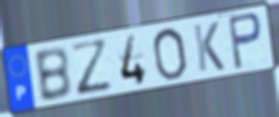4: (119, 33, 148, 87)
B: (32, 45, 74, 105)
K: (191, 20, 227, 74)
O: (151, 25, 189, 82)
P: (226, 11, 264, 72)
Z: (68, 37, 116, 99)
